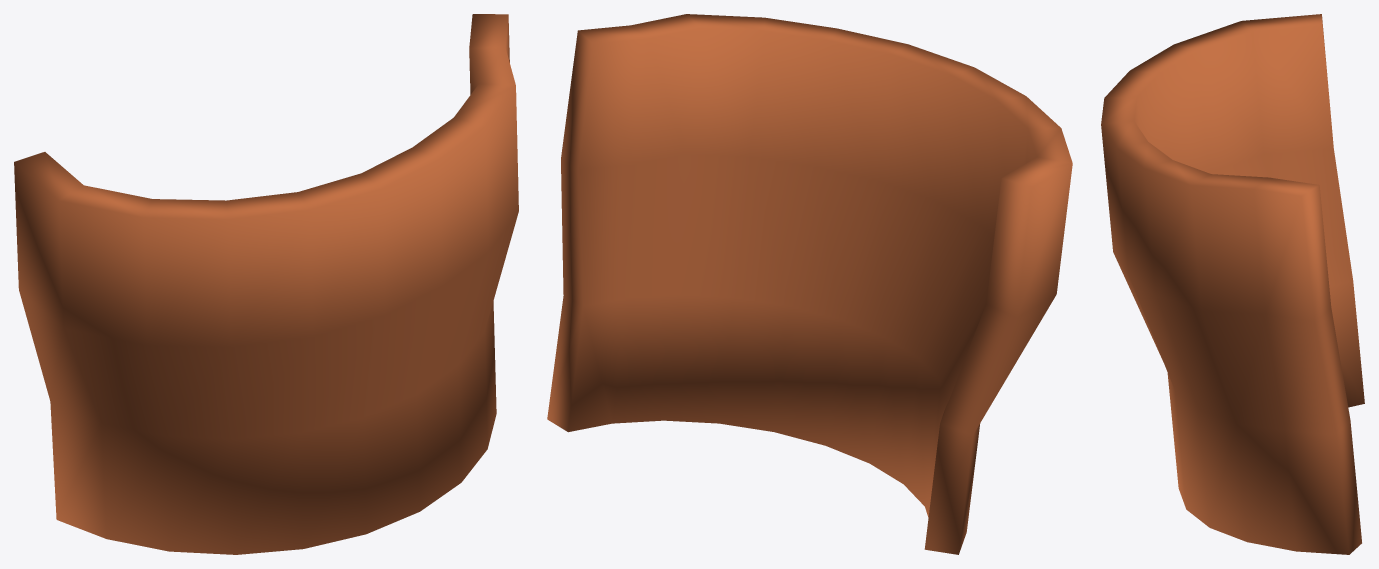
Rendered from Armor_Greave_R.fbx.
3 renders of one model, left to right at view 1: azimuth 30°, elevation 25°; view 2: azimuth 150°, elevation 25°; view 3: azimuth 270°, elevation 25°, orthographic. The views are drawn at different scales.
Parts seen in each view (by area): view 1: Armor_Greave_R; view 2: Armor_Greave_R; view 3: Armor_Greave_R.
Part boxes in pixels (x1,y1,x2,y2): Armor_Greave_R: (14, 14, 518, 554); Armor_Greave_R: (547, 14, 1072, 554); Armor_Greave_R: (1101, 14, 1364, 554).
Bounding box in the file's own units: 0.0949 × 0.0784 × 0.0478.
